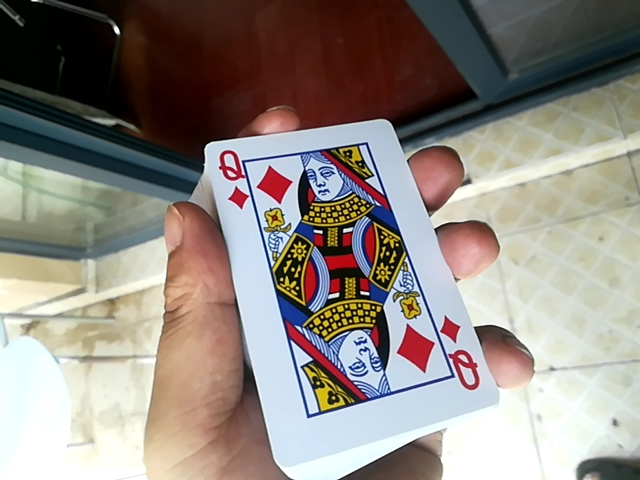fk q: (198, 106, 484, 473)
